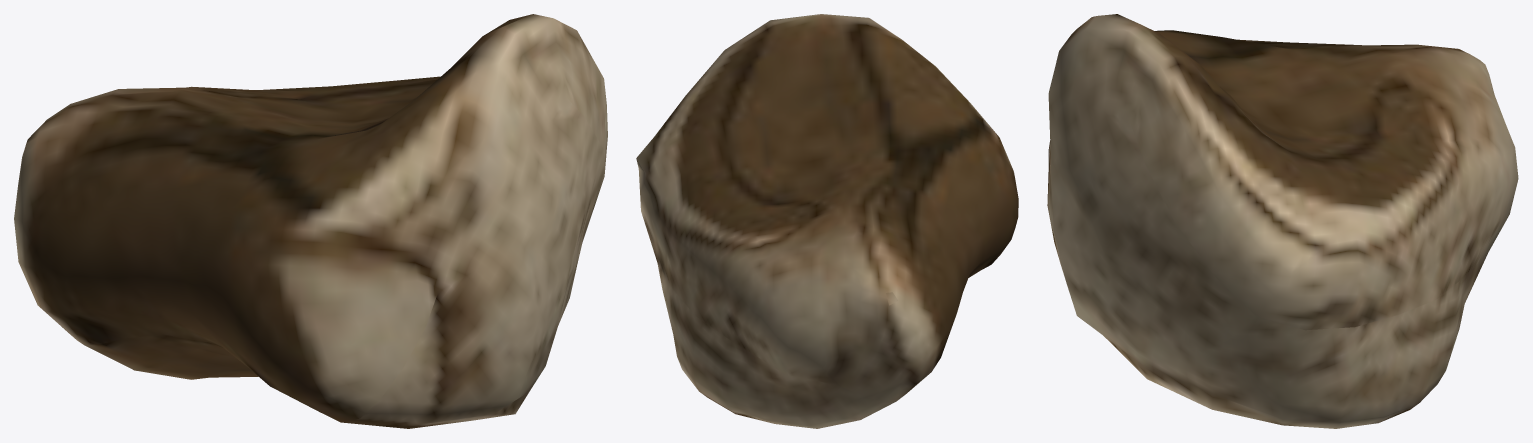
File: Fourth_Carpal.glb
The picture shows the model from 3 angles, left to right: view 1: azimuth 30°, elevation 25°; view 2: azimuth 150°, elevation 25°; view 3: azimuth 270°, elevation 25°; orthographic projection. The views are drawn at different scales.
Parts seen in each view (by area): view 1: L_Frt_Fourth_Carpal; view 2: L_Frt_Fourth_Carpal; view 3: L_Frt_Fourth_Carpal.
Part boxes in pixels (x1=…): L_Frt_Fourth_Carpal: x1=14, y1=14, x2=607, y2=428; L_Frt_Fourth_Carpal: x1=636, y1=14, x2=1018, y2=428; L_Frt_Fourth_Carpal: x1=1047, y1=14, x2=1518, y2=428.
Bounding box in the file's own units: 0.0358 × 0.0303 × 0.0335.
1 material, 1 textured.
